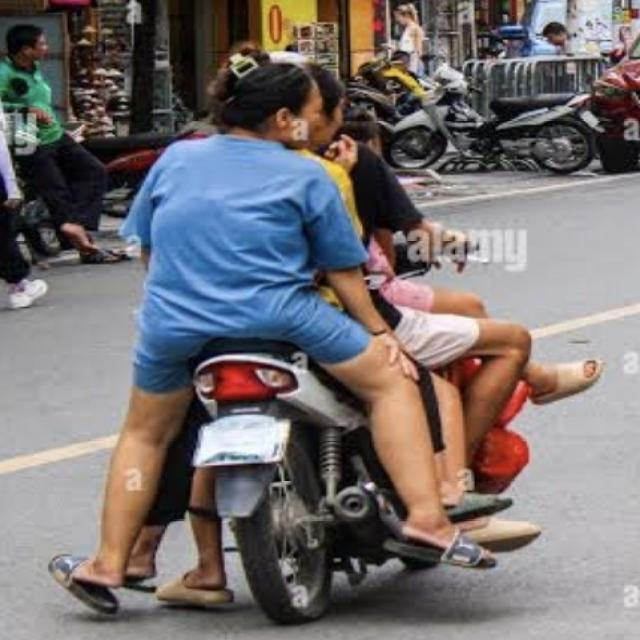WithoutHelmet: (48, 50, 498, 614), (275, 55, 543, 553), (334, 121, 534, 519)
